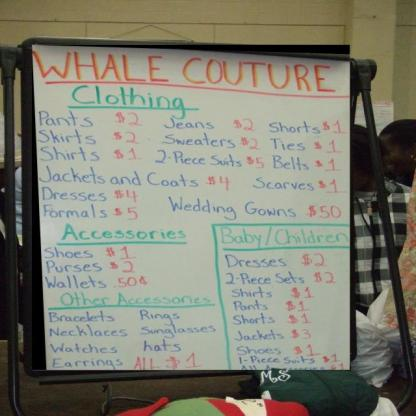Handwritten text: (28, 43, 339, 99), (36, 107, 112, 225), (254, 118, 317, 196), (163, 113, 241, 171), (70, 80, 192, 117), (166, 194, 292, 223), (62, 222, 188, 245), (60, 291, 221, 309), (39, 309, 187, 327), (222, 227, 346, 248), (48, 327, 223, 340), (49, 341, 193, 355), (110, 168, 196, 190), (48, 355, 136, 372), (219, 251, 295, 269), (42, 272, 106, 292), (237, 270, 303, 287), (232, 312, 288, 329), (232, 340, 287, 357), (44, 259, 102, 275), (42, 246, 99, 262), (235, 331, 291, 344), (227, 297, 269, 312), (230, 286, 274, 299)
Whiteboard: (20, 37, 364, 375)
